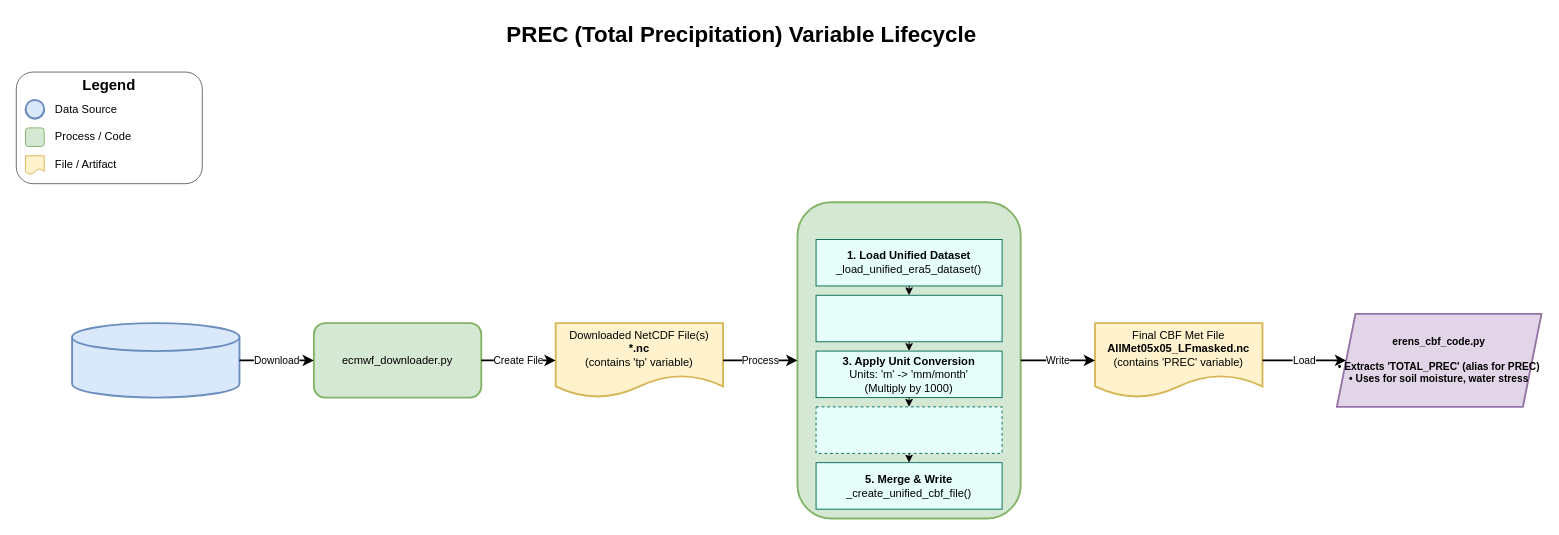
The diagram is 1559 pixels wide and 535 high, and some of its shapes have lost their labels. Here are the shapes that lost their labels. From the top down, the box of each, then its label:
(815, 294, 1002, 342): 2. Map Variable 'total_precipitation' -> 'PREC'
(71, 322, 240, 398): ERA5 Reanalysis total_precipitation
(796, 201, 1021, 519): CBFMetProcessor Workflow
(815, 406, 1002, 453): 4. Apply Land Mask (Optional) _apply_land_masking()
